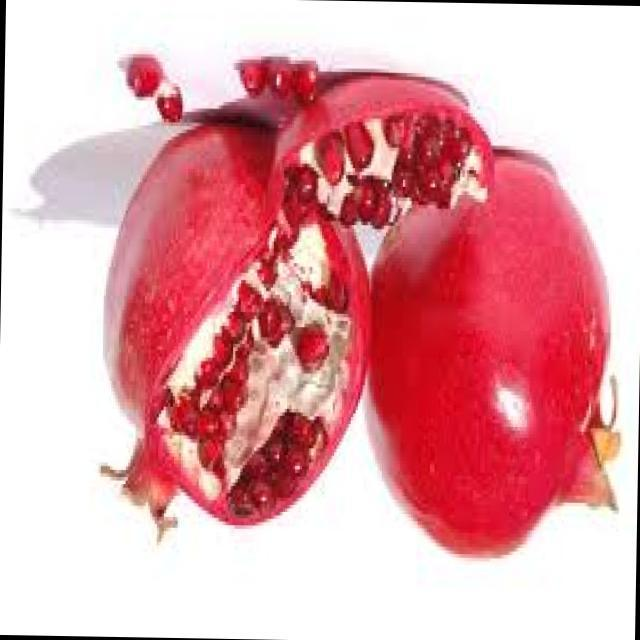Pomegranate: (73, 14, 442, 571)
